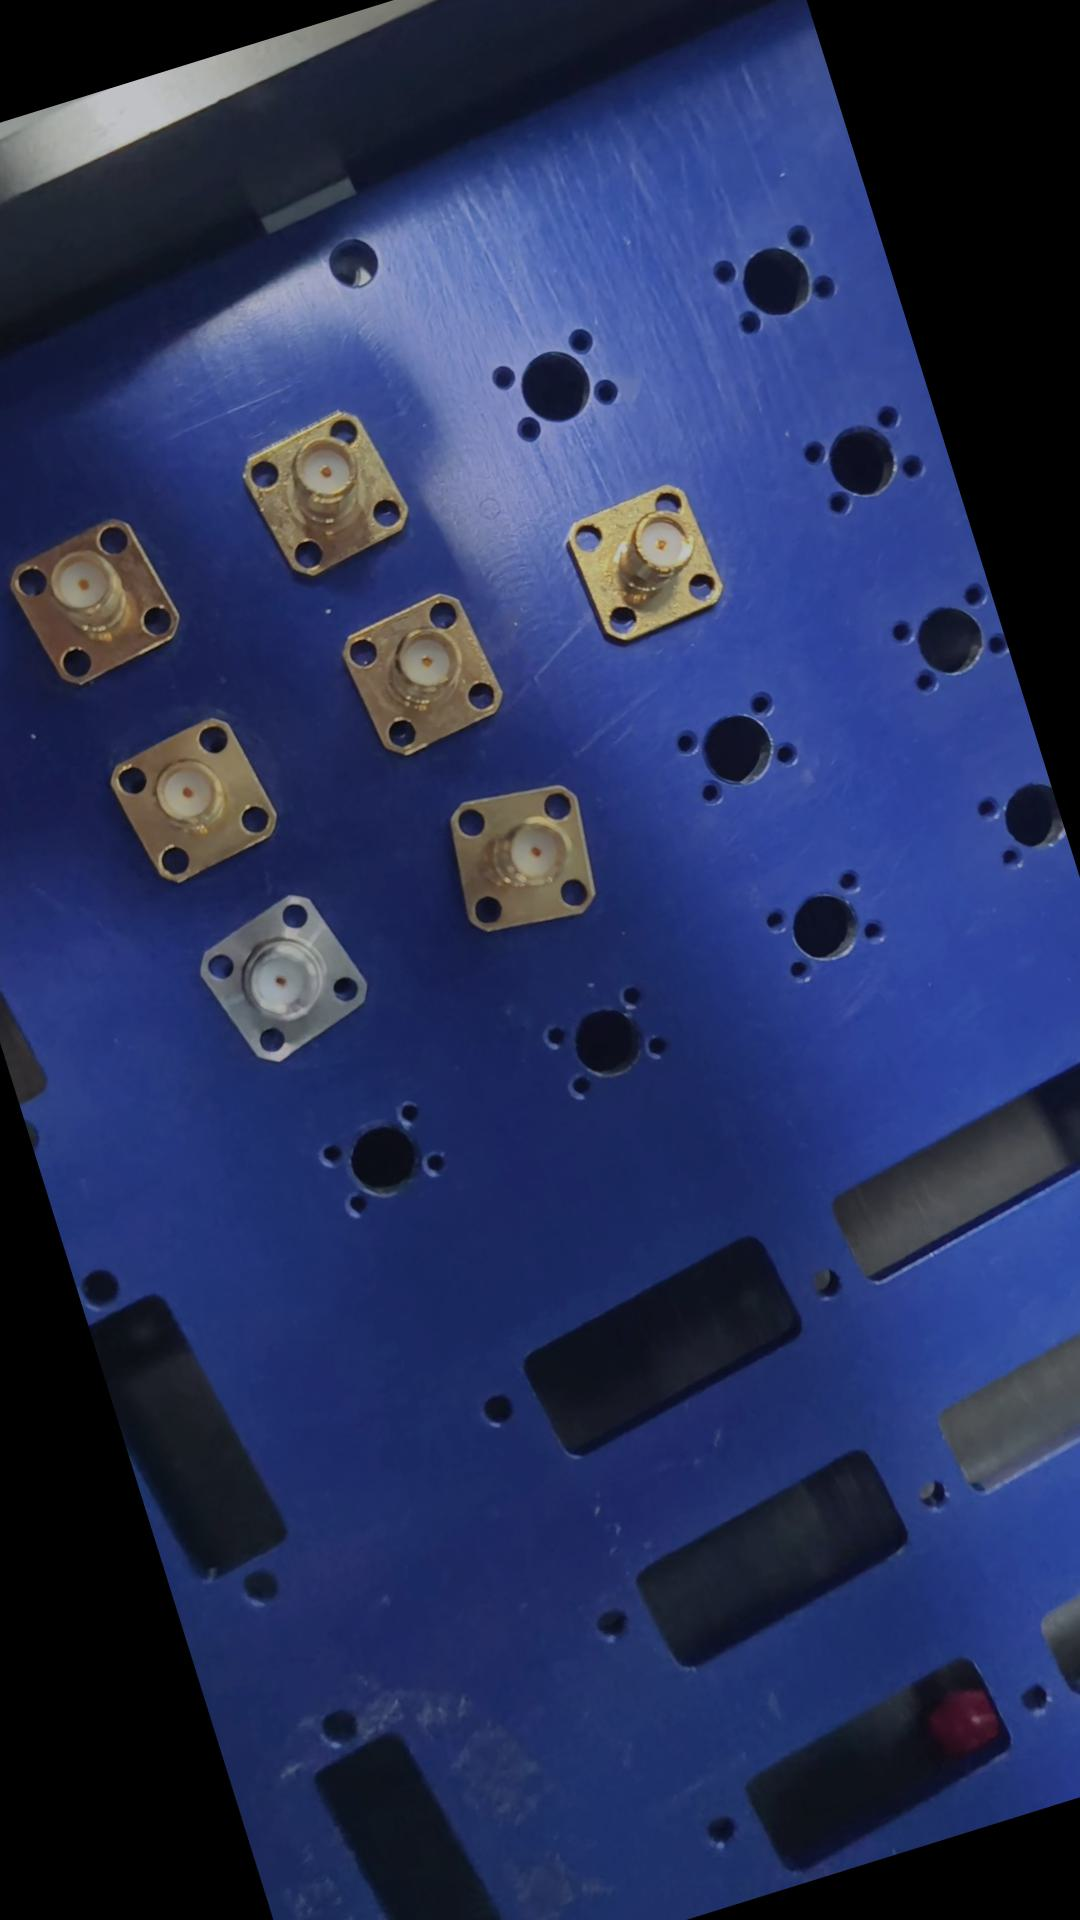SMA: (87, 700, 301, 898), (185, 872, 392, 1073), (433, 761, 629, 955), (3, 513, 200, 695), (331, 578, 520, 767), (240, 400, 429, 587), (558, 468, 738, 661)
